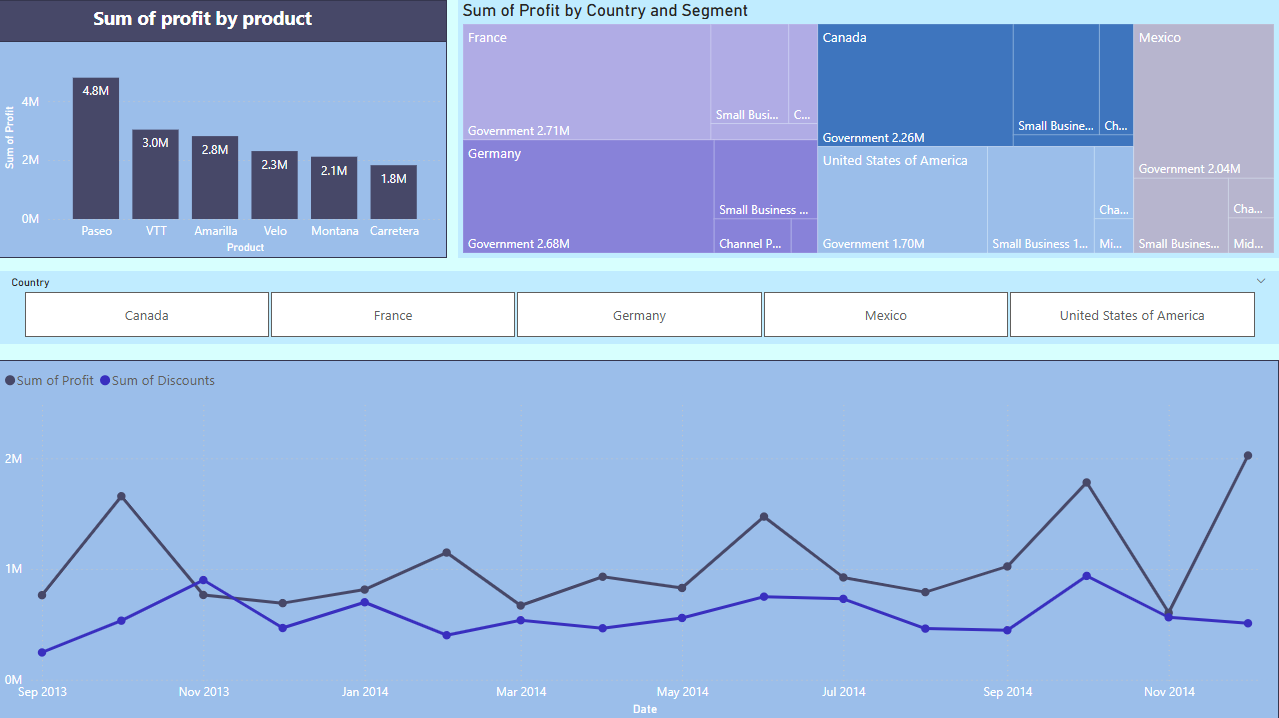

Layout of this report page (visuals, bound fields, positions):
{"tool":"powerbi","page":{"name":"countries ","canvas":[1280,720],"ordinal":1},"visuals":[{"type":"shape","box":[0,0,448,258],"z":0},{"type":"shape","box":[0,360,1280,360],"z":1000},{"type":"shape","box":[0,0,448,42],"z":2000},{"type":"textbox","box":[0,0,408,42],"z":3000},{"type":"columnChart","fields":{"Category":["financials.Product"],"Y":["Sum(financials.Profit)"]},"box":[0,42,448,216],"z":4000},{"type":"lineChart","fields":{"Category":["financials.Date"],"Y":["Sum(financials.Profit)","Sum(financials.Discounts)"]},"box":[0,360,1280,360],"z":5000},{"type":"slicer","fields":{"Values":["financials.Country"]},"box":[0,271,1280,73],"z":6000},{"type":"treemap","fields":{"Details":["financials.Segment"],"Group":["financials.Country"],"Values":["Sum(financials.Profit)"]},"box":[459,0,821,258],"z":7000}]}

Visuals, with their boxes in screenshot pixels (x1, y1, x2, y2), scaled from the page's 1280x720 canvas onto the 1279x718 screenshot:
shape: 0, 0, 448, 257
shape: 0, 359, 1278, 717
shape: 0, 0, 448, 42
textbox: 0, 0, 408, 42
columnChart - financials.Product x Sum(financials.Profit): 0, 42, 448, 257
lineChart - financials.Date x Sum(financials.Profit): 0, 359, 1278, 717
slicer - financials.Country: 0, 270, 1278, 343
treemap - financials.Segment x financials.Country: 459, 0, 1278, 257
